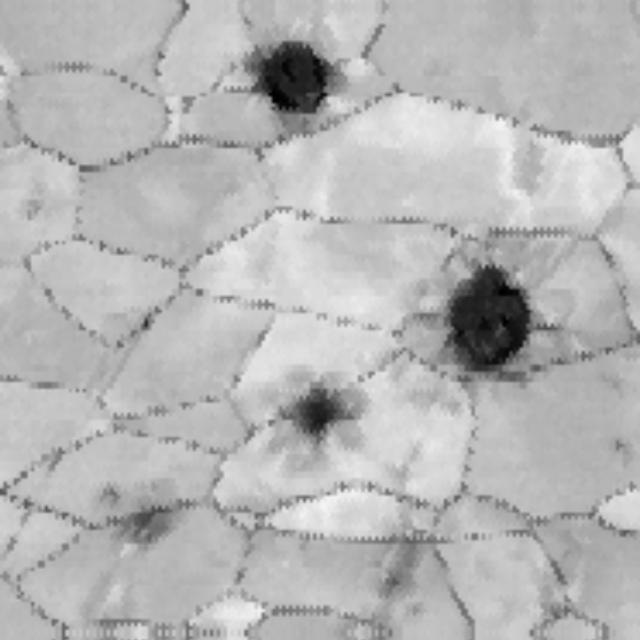good_void: (437, 252, 534, 378), (233, 40, 336, 126), (279, 377, 347, 441), (121, 487, 187, 551), (381, 533, 427, 618), (605, 436, 637, 474), (100, 488, 122, 510)
